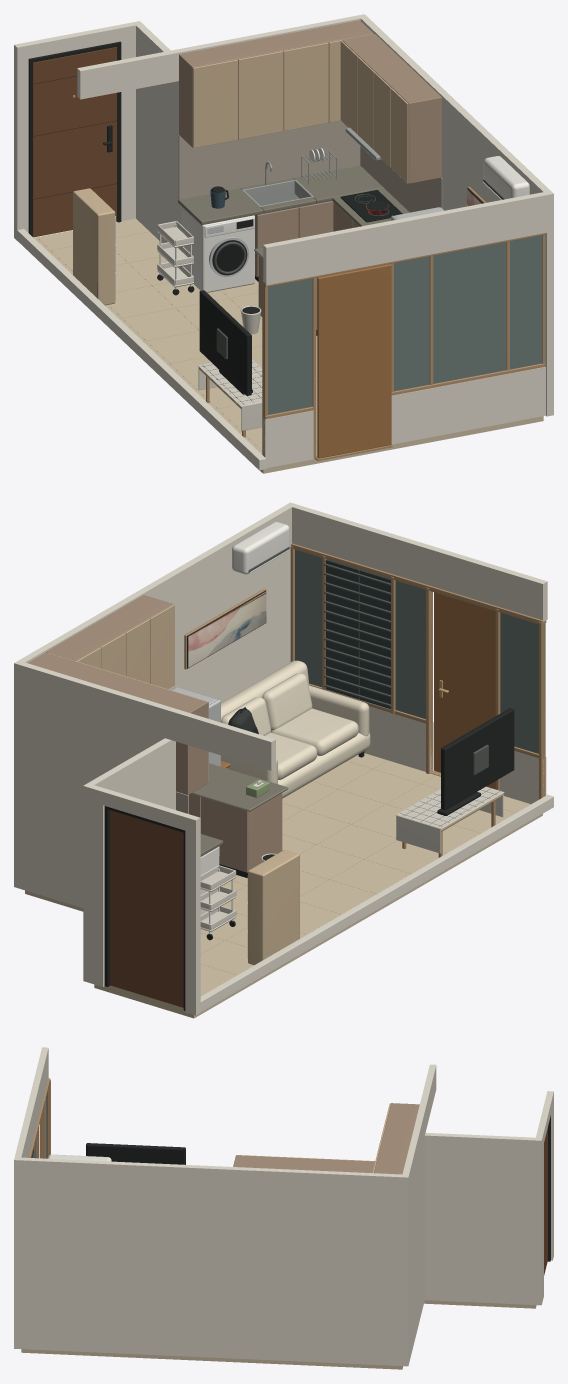
Rendered from design.glb.
3 renders of one model, top to bottom at view 1: azimuth 30°, elevation 25°; view 2: azimuth 150°, elevation 25°; view 3: azimuth 270°, elevation 25°, orthographic. The views are drawn at different scales.
Visible parts, largest first — view 1: 窗墙 · 磨砂侧窗与横格窗, 后墙 · 厨房与沙发侧, 厨房吊柜 · 左侧, 地面 · L 形轮廓与瓷砖, 内门 · 浅木色, 入户门 · 深木色, 厨房吊柜 · 后侧, 厨房防溅板, 入户门框与门楣, 水槽地柜与台面 · 左侧, 剖视 · 电视侧墙脚, 滚筒洗衣机 (+8 smaller); view 2: 后墙 · 厨房与沙发侧, 窗墙 · 磨砂侧窗与横格窗, 地面 · L 形轮廓与瓷砖, 入户门 · 深木色, 双人布艺沙发, 入户门框与门楣, 内门 · 浅木色, 厨房吊柜 · 后侧, 半岛操作台, 剖视 · 电视侧墙脚, 入口三层鞋柜, 壁挂平板电视 (+6 smaller); view 3: 后墙 · 厨房与沙发侧, 入户门框与门楣, 窗墙 · 磨砂侧窗与横格窗, 厨房吊柜 · 左侧, 地面 · L 形轮廓与瓷砖, 厨房吊柜 · 后侧, 壁挂平板电视, 入户门 · 深木色.
Boxes of the visible parts, bbox=[...] form: 窗墙 · 磨砂侧窗与横格窗: bbox=[262, 192, 546, 467]; 后墙 · 厨房与沙发侧: bbox=[77, 14, 553, 416]; 厨房吊柜 · 左侧: bbox=[179, 20, 373, 147]; 地面 · L 形轮廓与瓷砖: bbox=[34, 218, 543, 473]; 内门 · 浅木色: bbox=[317, 264, 391, 458]; 入户门 · 深木色: bbox=[33, 47, 117, 237]; 厨房吊柜 · 后侧: bbox=[340, 34, 441, 183]; 厨房防溅板: bbox=[178, 120, 442, 212]; 入户门框与门楣: bbox=[14, 21, 142, 240]; 水槽地柜与台面 · 左侧: bbox=[178, 165, 383, 281]; 剖视 · 电视侧墙脚: bbox=[14, 228, 266, 470]; 滚筒洗衣机: bbox=[181, 207, 254, 292]; 后墙 · 厨房与沙发侧: bbox=[14, 502, 296, 907]; 窗墙 · 磨砂侧窗与横格窗: bbox=[290, 504, 547, 803]; 地面 · L 形轮廓与瓷砖: bbox=[25, 753, 542, 1018]; 入户门 · 深木色: bbox=[110, 810, 183, 1007]; 双人布艺沙发: bbox=[221, 660, 370, 798]; 入户门框与门楣: bbox=[83, 783, 200, 1015]; 内门 · 浅木色: bbox=[434, 592, 495, 789]; 厨房吊柜 · 后侧: bbox=[46, 595, 174, 688]; 半岛操作台: bbox=[189, 763, 288, 877]; 剖视 · 电视侧墙脚: bbox=[189, 794, 553, 1012]; 入口三层鞋柜: bbox=[247, 850, 299, 965]; 壁挂平板电视: bbox=[441, 708, 514, 809]; 后墙 · 厨房与沙发侧: bbox=[14, 1064, 535, 1366]; 入户门框与门楣: bbox=[535, 1091, 553, 1305]; 窗墙 · 磨砂侧窗与横格窗: bbox=[15, 1047, 50, 1158]; 厨房吊柜 · 左侧: bbox=[372, 1103, 419, 1174]; 地面 · L 形轮廓与瓷砖: bbox=[21, 1300, 536, 1369]; 厨房吊柜 · 后侧: bbox=[233, 1155, 375, 1172]; 壁挂平板电视: bbox=[86, 1143, 185, 1164]; 入户门 · 深木色: bbox=[544, 1128, 547, 1275].
Size of the model in its own units: 3.78 by 2.58 by 6.48.
Materials: 28 (1 with a texture image).
